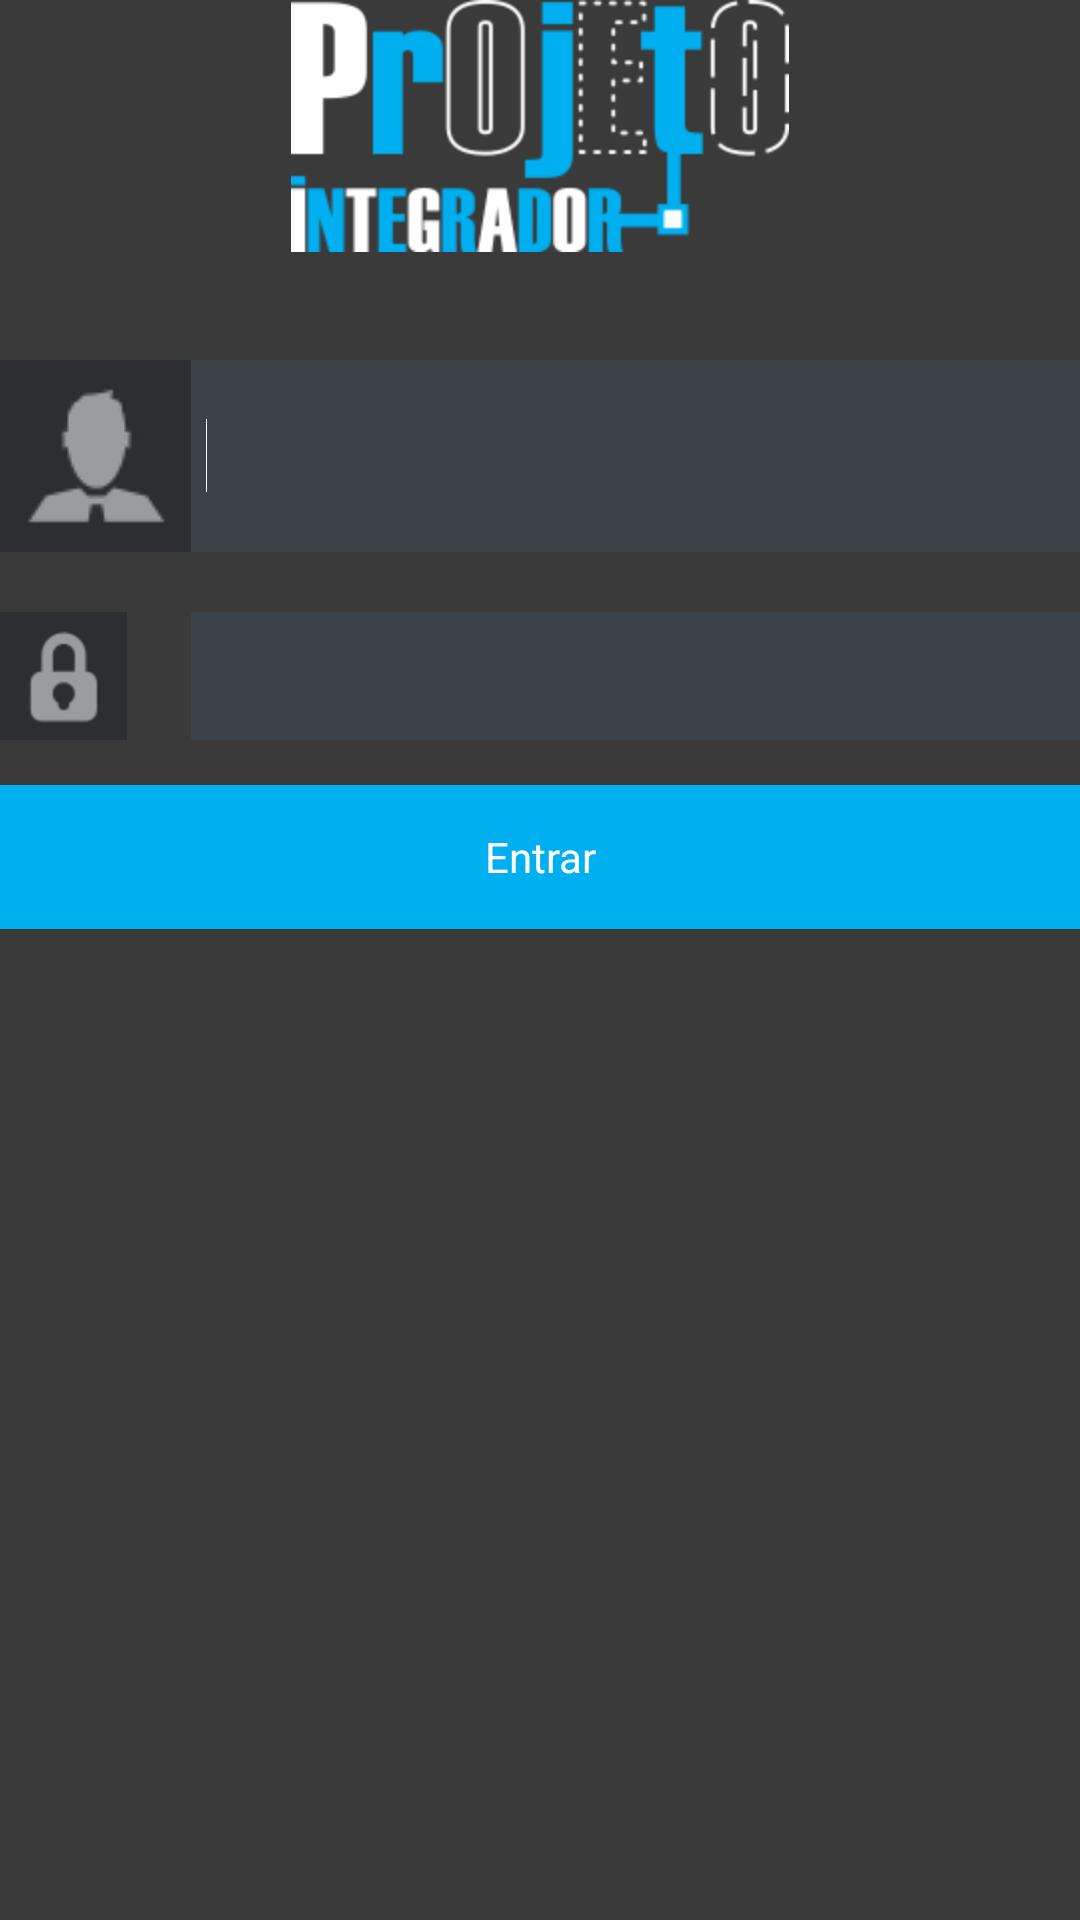

Where to tap for icons on this 1080 × 1920 app screen, as (x,y):
Usuário: (95,456)
